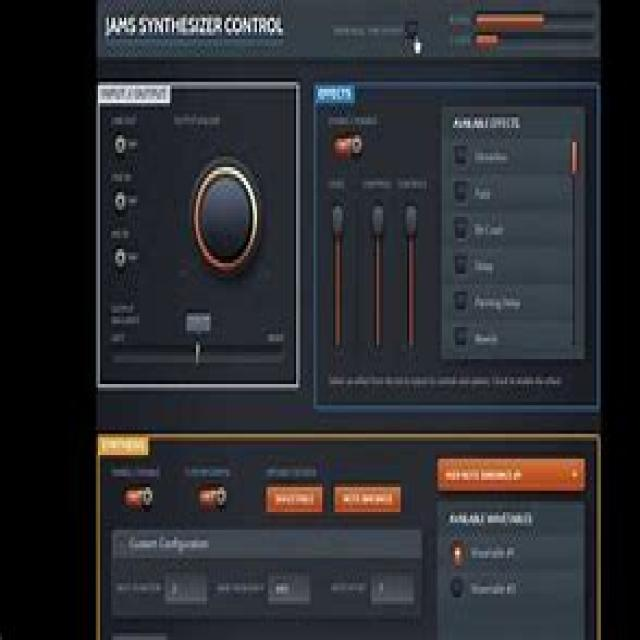button: (263, 479, 327, 516), (334, 480, 401, 515), (161, 564, 210, 608), (367, 567, 418, 608), (267, 566, 314, 608), (403, 17, 428, 43)
checkbox: (452, 139, 471, 169), (453, 248, 470, 277), (453, 323, 470, 351), (452, 176, 469, 204), (452, 290, 471, 314), (452, 213, 468, 241)
dropdownMenu: (435, 451, 587, 497)
label: (101, 8, 289, 46)
radio: (108, 128, 143, 158), (108, 184, 143, 213), (108, 243, 144, 271), (446, 571, 466, 602), (448, 535, 464, 573)
slider: (105, 296, 291, 374), (188, 147, 266, 289), (368, 196, 390, 357), (328, 196, 350, 356), (400, 195, 421, 357), (568, 130, 582, 357)
switch: (330, 130, 366, 159), (120, 484, 156, 509), (195, 486, 231, 509)
